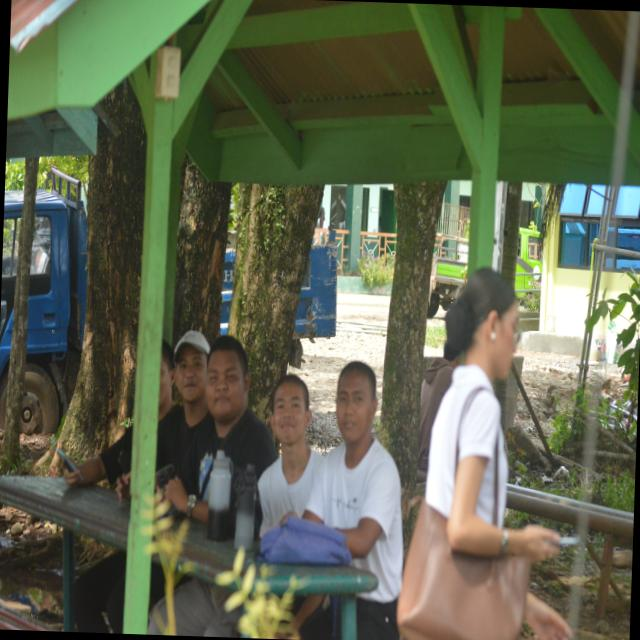person: (425, 269, 559, 561), (304, 362, 403, 639), (165, 336, 277, 539), (259, 375, 323, 537), (156, 331, 210, 471), (418, 342, 460, 471)
